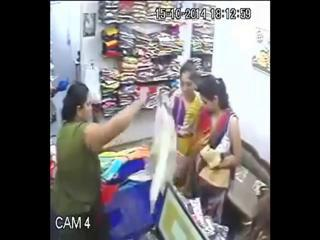Normal: (51, 81, 150, 239), (190, 73, 242, 225), (168, 58, 205, 200)
